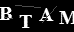A: (39, 8, 54, 22)
B: (1, 5, 13, 21)
M: (57, 10, 74, 25)
T: (18, 14, 33, 29)
